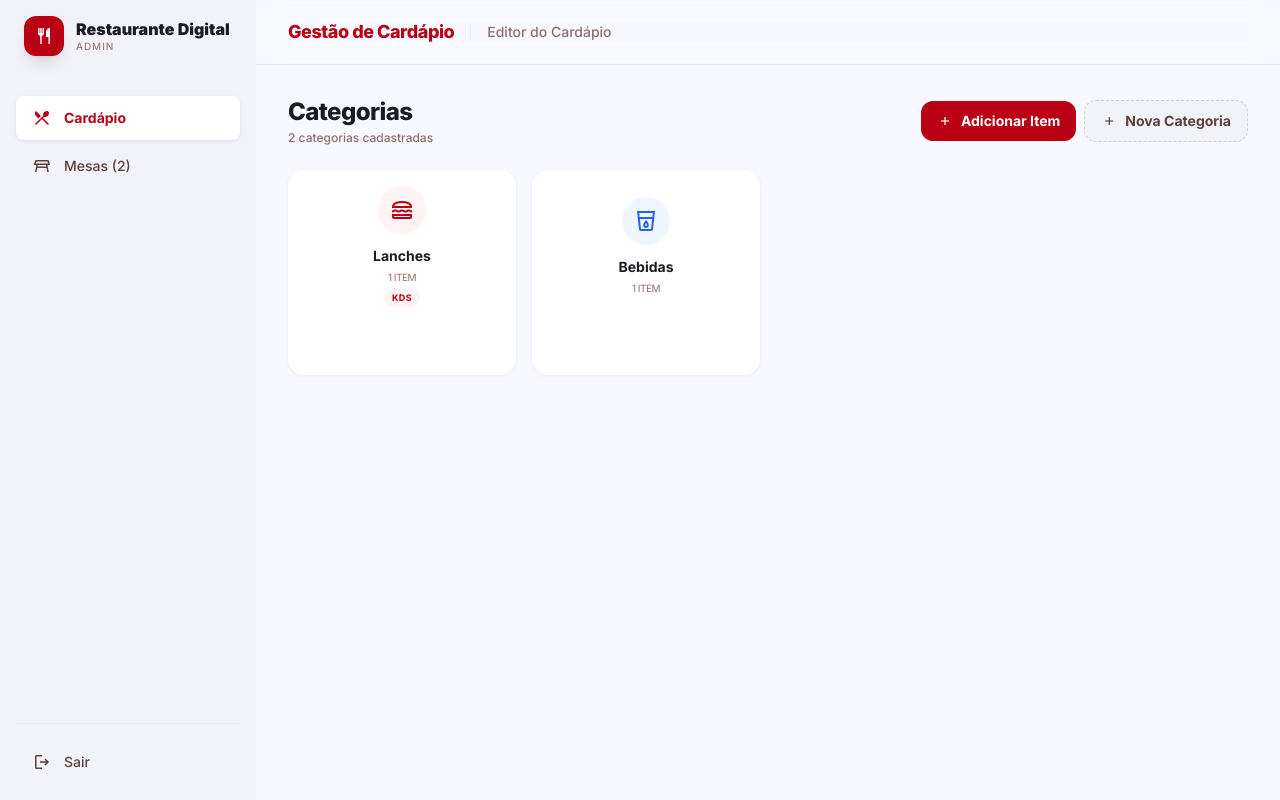
Test: AdminPage › Modal de categoria › exibe mensagem quando categoria não tem itens
Expected: the text "Lanches" is shown, [373,246,431,266]
Click the text "Bebidas". click: (646, 267)
box: [618,257,674,277]
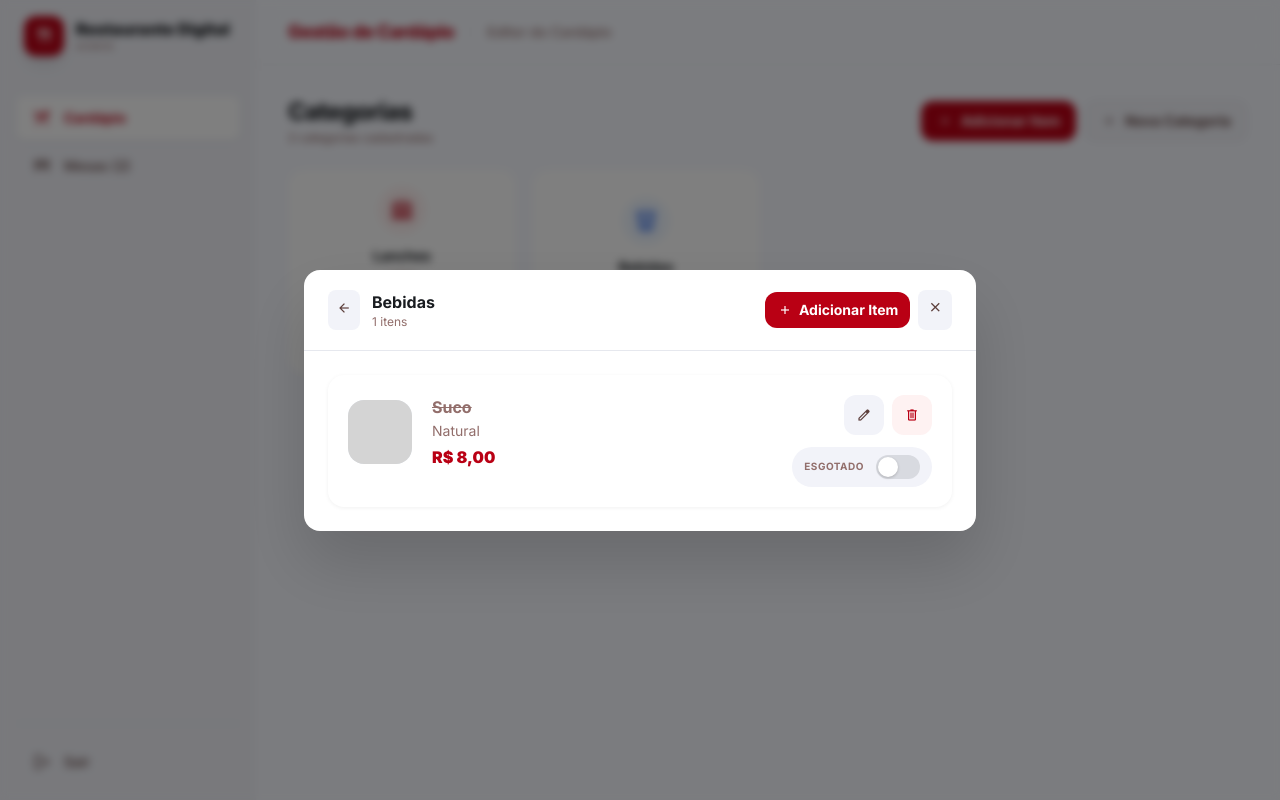
Expected: the heading "Suco" is shown, [432,396,472,416]
